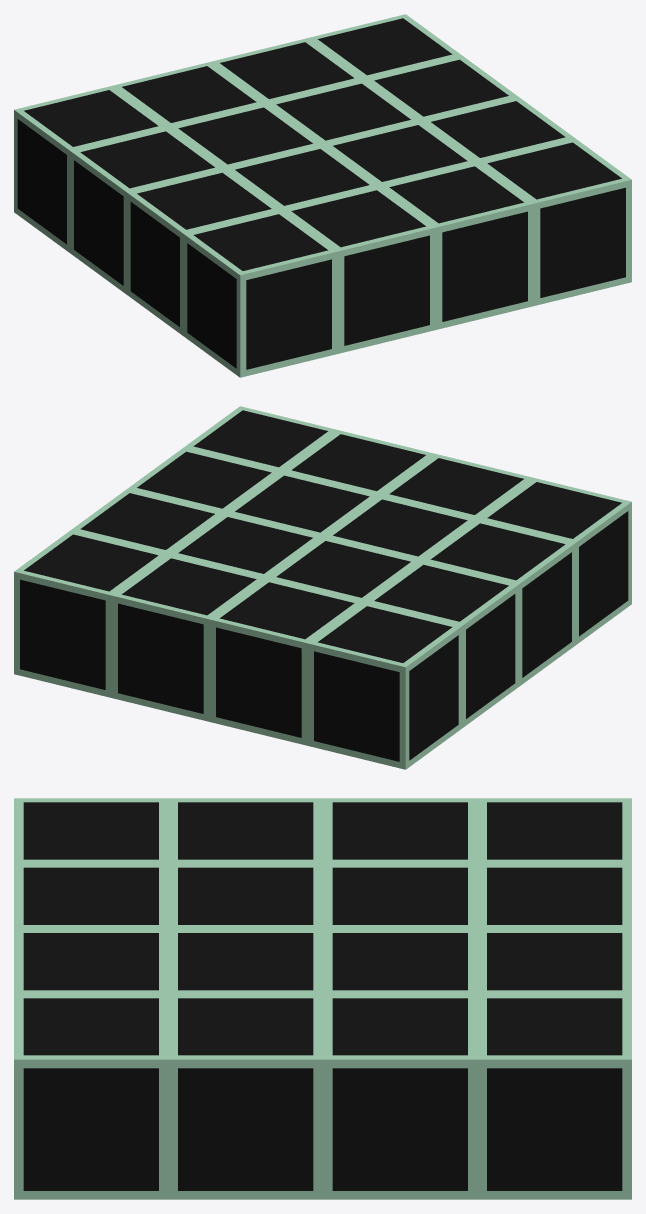
Rendered from m_tiles_13_4x4.fbx.
The picture shows the model from 3 angles, top to bottom: view 1: azimuth 30°, elevation 25°; view 2: azimuth 150°, elevation 25°; view 3: azimuth 270°, elevation 25°; orthographic projection. The views are drawn at different scales.
Parts seen in each view (by area): view 1: m_tiles_13_4x4; view 2: m_tiles_13_4x4; view 3: m_tiles_13_4x4.
Part boxes in pixels (box(x1,y1,x2,y2)): m_tiles_13_4x4: box(14, 14, 631, 377); m_tiles_13_4x4: box(14, 406, 631, 769); m_tiles_13_4x4: box(14, 798, 631, 1199).
Size of the model in its own units: 6.4 by 1.6 by 6.4.
Materials: 1 (1 with a texture image).
